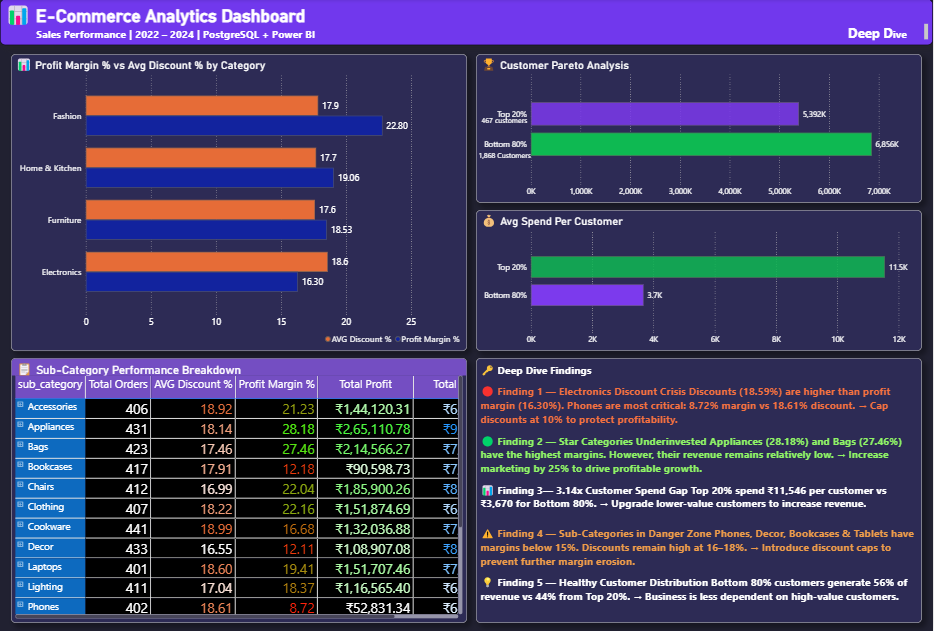

What the dashboard file says about the page in this screenshot:
{"tool":"powerbi","page":{"name":"Deep Dive","canvas":[1920,1300],"ordinal":1},"visuals":[{"type":"textbox","title":"📊 E-Commerce Analytics Dashboard","box":[0,0,1919.1,94.6],"z":0},{"type":"clusteredBarChart","title":"📊 Profit Margin % vs Avg Discount % by Category","fields":{"Category":["e_commerce products.category"],"Y":["e_commerce orders.AVG Discount %","e_commerce customers.Profit Margin %"]},"box":[22.6,113.1,938,610.9],"z":1000},{"type":"clusteredBarChart","title":"🏆 Customer Pareto Analysis","fields":{"Category":["e_commerce orders.Customer Group"],"Y":["e_commerce orders.Total Revenue"]},"box":[979.1,113.1,917.4,306.5],"z":2000},{"type":"clusteredBarChart","title":"💰 Avg Spend Per Customer","fields":{"Category":["e_commerce orders.Customer Group"],"Y":["e_commerce orders.Avg Revenue Per Customer"]},"box":[979.1,434,917.4,290],"z":3000},{"type":"textbox","box":[985.3,234.5,104.9,32.9],"z":4000},{"type":"textbox","box":[979.1,306.5,119.3,32.9],"z":5000},{"type":"pivotTable","title":"📋 Sub-Category Performance Breakdown","fields":{"Values":["e_commerce orders.Total Orders","e_commerce orders.AVG Discount %","e_commerce customers.Profit Margin %","e_commerce orders.Total Profit","e_commerce orders.Total Revenue"],"Rows":["e_commerce products.sub_category","e_commerce products.category"]},"box":[22.6,738.4,938,545.1],"z":6000},{"type":"textbox","box":[979,738,917,545],"z":7000}]}

Visuals, with their boxes in screenshot pixels (x1, y1, x2, y2), scaled from the page's 1920x1300 canvas onto the 934x631 screenshot:
"📊 E-Commerce Analytics Dashboard" textbox: select_region(0, 0, 933, 46)
"📊 Profit Margin % vs Avg Discount % by Category" clusteredBarChart: select_region(11, 55, 467, 351)
"🏆 Customer Pareto Analysis" clusteredBarChart: select_region(476, 55, 923, 204)
"💰 Avg Spend Per Customer" clusteredBarChart: select_region(476, 211, 923, 351)
textbox: select_region(479, 114, 530, 130)
textbox: select_region(476, 149, 534, 165)
"📋 Sub-Category Performance Breakdown" pivotTable: select_region(11, 358, 467, 623)
textbox: select_region(476, 358, 922, 623)
